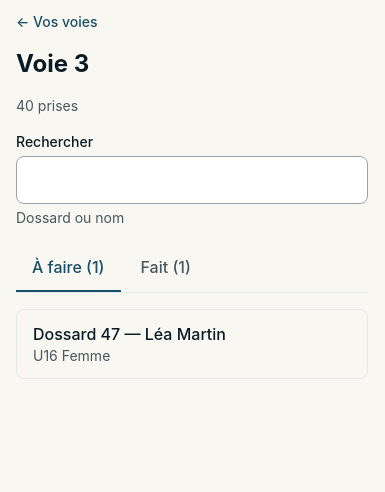
Test case: JudgeRoute › sépare les compétiteurs entre « à faire » et « fait »
The width and height of the screenshot is (385, 492).
Expected: the text "Dossard 12 — Sacha Dupont" is not shown
Click the tab "Fait (1)": coordinates (166, 268) [124,244,207,292]
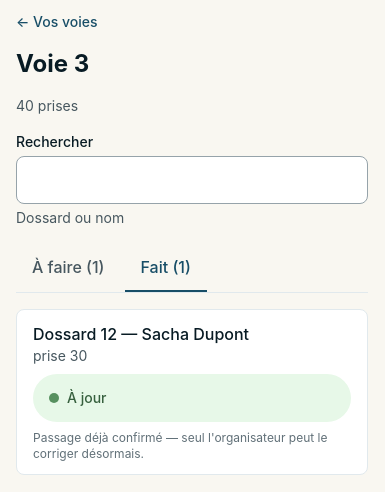
Expected: the text "Dossard 12 — Sacha Dupont" is shown, [33,322,249,346]
Expected: the text "prise 30" is shown, [33,347,87,364]
